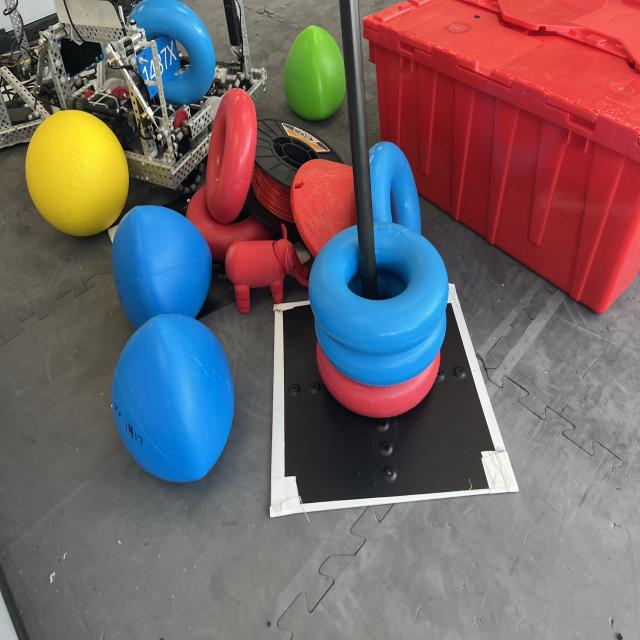Blue-Ring: (310, 223, 449, 353), (315, 315, 446, 387), (129, 0, 215, 105), (369, 142, 421, 233)
Red-Ring: (316, 343, 440, 418), (206, 88, 258, 223), (186, 185, 275, 262)
